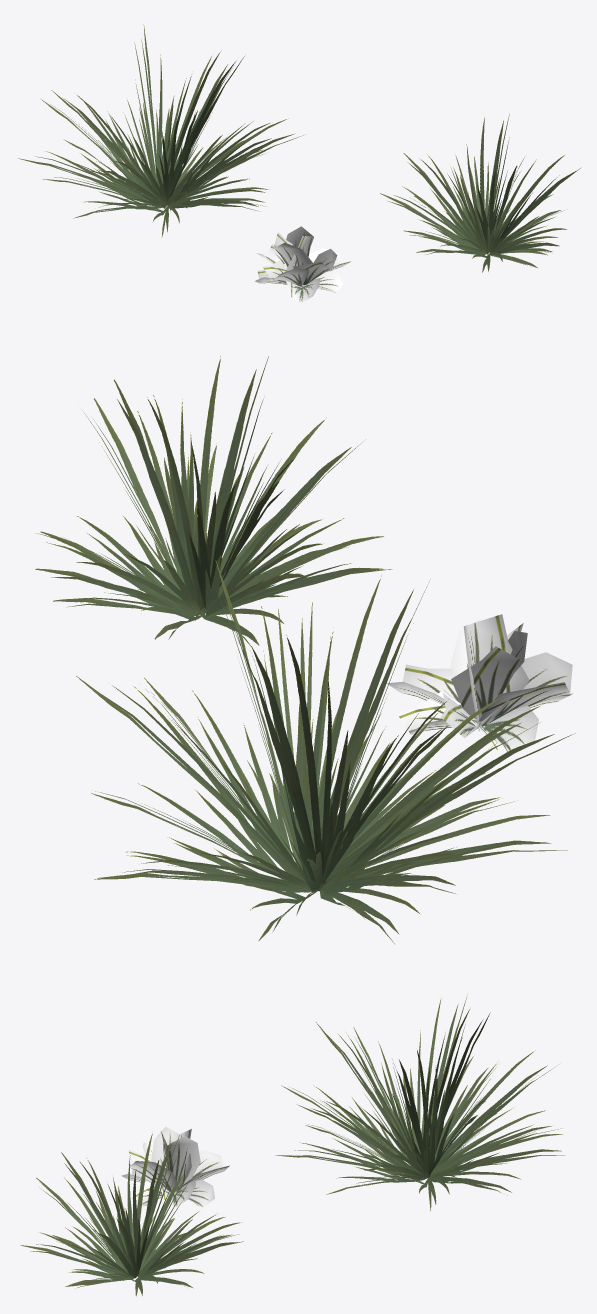
Rendered from Bush 04.fbx.
3 views of the same model, one above another, from view 1: azimuth 30°, elevation 25°; view 2: azimuth 150°, elevation 25°; view 3: azimuth 270°, elevation 25° (orthographic). The views are drawn at different scales.
Parts seen in each view (by area): view 1: polySurface42, polySurface28, polySurface62; view 2: polySurface42, polySurface28, polySurface62; view 3: polySurface42, polySurface28, polySurface62.
Boxes of the visible parts, x1,y1,x2,y2 form: polySurface42: (18, 24, 303, 237); polySurface28: (380, 114, 581, 272); polySurface62: (255, 226, 350, 302); polySurface42: (76, 560, 575, 944); polySurface28: (35, 356, 392, 647); polySurface62: (387, 614, 572, 755); polySurface42: (275, 995, 564, 1210); polySurface28: (20, 1133, 243, 1296); polySurface62: (121, 1127, 229, 1207).
Size of the model in its own units: 183 by 76.52 by 205.
Materials: 2 (2 with a texture image).
